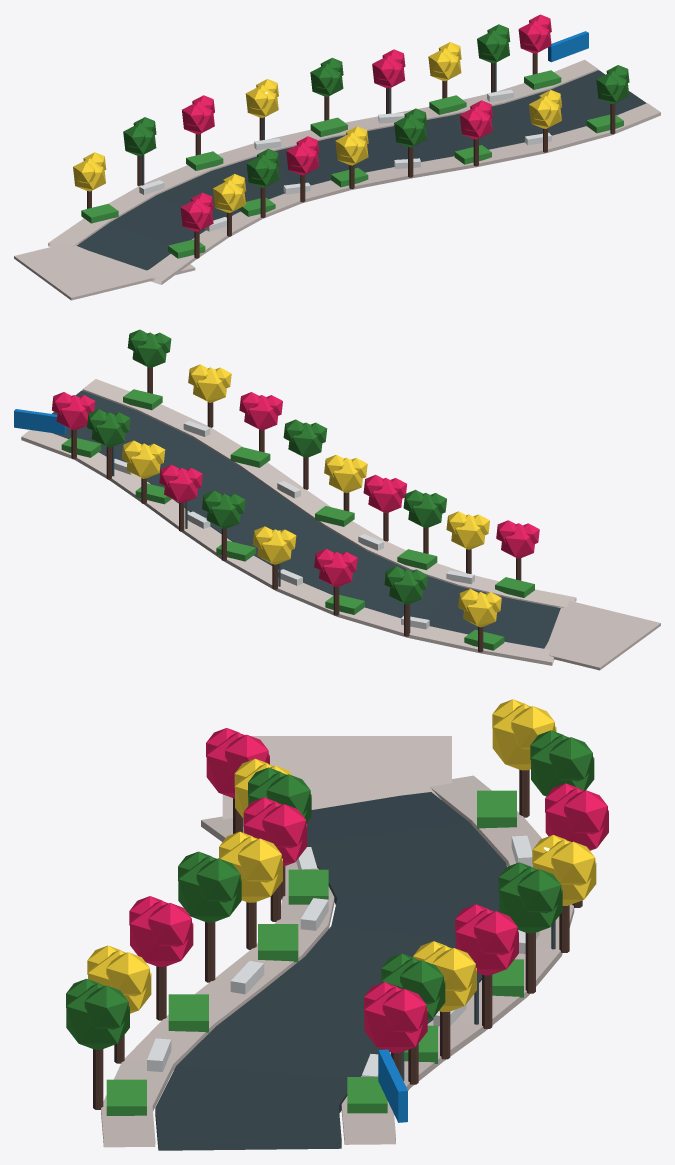
File: doc_tinh.glb
The picture shows the model from 3 angles, top to bottom: view 1: azimuth 30°, elevation 25°; view 2: azimuth 150°, elevation 25°; view 3: azimuth 270°, elevation 25°; orthographic projection. The views are drawn at different scales.
Visible parts, largest first — view 1: DocTinh_Road, DocTinh_Sidewalk_R, DocTinh_Sidewalk_L, DocTinh_FootPad, DocTinh_FactionPano, DocTinh_Canopy_9_0, DocTinh_Canopy_16_0, DocTinh_Canopy_12_0, DocTinh_Canopy_17_0, DocTinh_Canopy_13_0, DocTinh_Canopy_0_0, DocTinh_Canopy_4_0 (+20 smaller); view 2: DocTinh_Road, DocTinh_Sidewalk_L, DocTinh_Sidewalk_R, DocTinh_FootPad, DocTinh_FactionPano, DocTinh_Canopy_1_0, DocTinh_Canopy_12_0, DocTinh_Canopy_2_0, DocTinh_Canopy_3_0, DocTinh_Canopy_7_0, DocTinh_Canopy_11_0, DocTinh_Canopy_17_0 (+17 smaller); view 3: DocTinh_Road, DocTinh_FootPad, DocTinh_Sidewalk_R, DocTinh_Sidewalk_L, DocTinh_Canopy_17_0, DocTinh_Canopy_11_0, DocTinh_Canopy_16_0, DocTinh_Canopy_13_0, DocTinh_Canopy_8_0, DocTinh_Canopy_10_0, DocTinh_Planter_R_7, DocTinh_Canopy_8_1 (+39 smaller).
Part boxes in pixels (x1,y1,x2,y2): DocTinh_Road: (77, 70, 646, 270); DocTinh_Sidewalk_R: (145, 103, 660, 284); DocTinh_Sidewalk_L: (48, 59, 598, 247); DocTinh_FootPad: (14, 243, 195, 300); DocTinh_FactionPano: (548, 31, 588, 62); DocTinh_Canopy_9_0: (335, 132, 368, 165); DocTinh_Canopy_16_0: (518, 20, 551, 53); DocTinh_Canopy_12_0: (428, 48, 461, 81); DocTinh_Canopy_17_0: (596, 71, 629, 104); DocTinh_Canopy_13_0: (459, 106, 492, 139); DocTinh_Canopy_0_0: (73, 158, 105, 191); DocTinh_Canopy_4_0: (182, 101, 214, 134); DocTinh_Road: (52, 390, 560, 648); DocTinh_Sidewalk_L: (21, 430, 554, 665); DocTinh_Sidewalk_R: (82, 379, 576, 607); DocTinh_FootPad: (544, 600, 660, 670); DocTinh_FactionPano: (14, 409, 66, 434); DocTinh_Canopy_1_0: (501, 523, 534, 558); DocTinh_Canopy_12_0: (126, 443, 160, 478); DocTinh_Canopy_2_0: (389, 569, 423, 604); DocTinh_Canopy_3_0: (451, 514, 485, 549); DocTinh_Canopy_7_0: (368, 478, 402, 513); DocTinh_Canopy_11_0: (288, 422, 322, 457); DocTinh_Canopy_17_0: (132, 332, 166, 367); DocTinh_Road: (155, 792, 506, 1150); DocTinh_FootPad: (222, 736, 451, 819); DocTinh_Sidewalk_R: (101, 816, 334, 1147); DocTinh_Sidewalk_L: (341, 775, 574, 1144); DocTinh_Canopy_17_0: (66, 983, 129, 1049); DocTinh_Canopy_11_0: (178, 856, 241, 922); DocTinh_Canopy_16_0: (364, 987, 427, 1052); DocTinh_Canopy_13_0: (130, 900, 193, 966); DocTinh_Canopy_8_0: (499, 867, 562, 933); DocTinh_Canopy_10_0: (455, 909, 518, 975); DocTinh_Planter_R_7: (168, 994, 208, 1032); DocTinh_Canopy_8_1: (517, 869, 561, 913).
Bounding box in the file's own units: 45.25 × 10.3 × 18.95.
